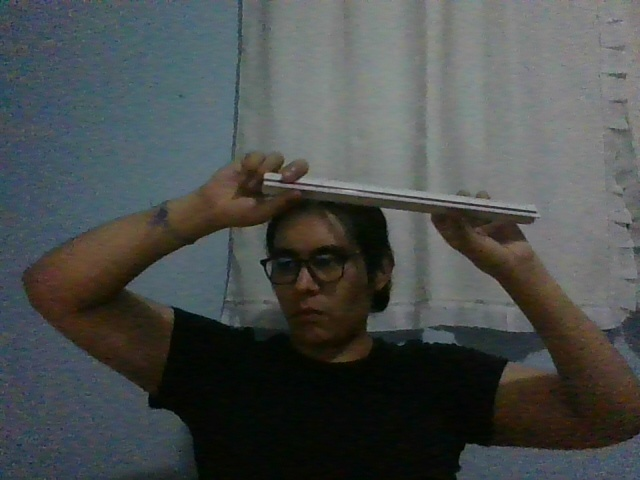regla: (261, 172, 541, 226)
